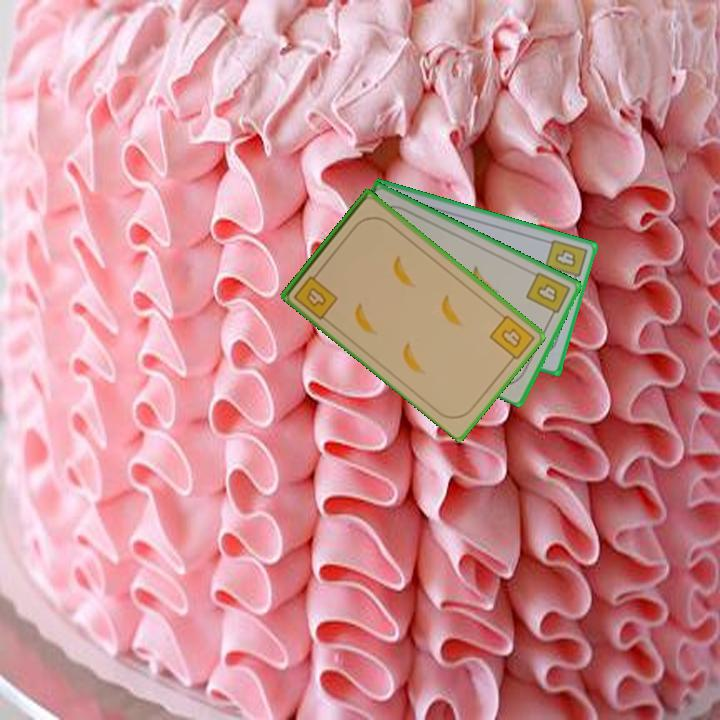4b: (486, 311, 537, 367), (290, 266, 341, 322), (522, 268, 573, 322), (542, 236, 590, 286)
